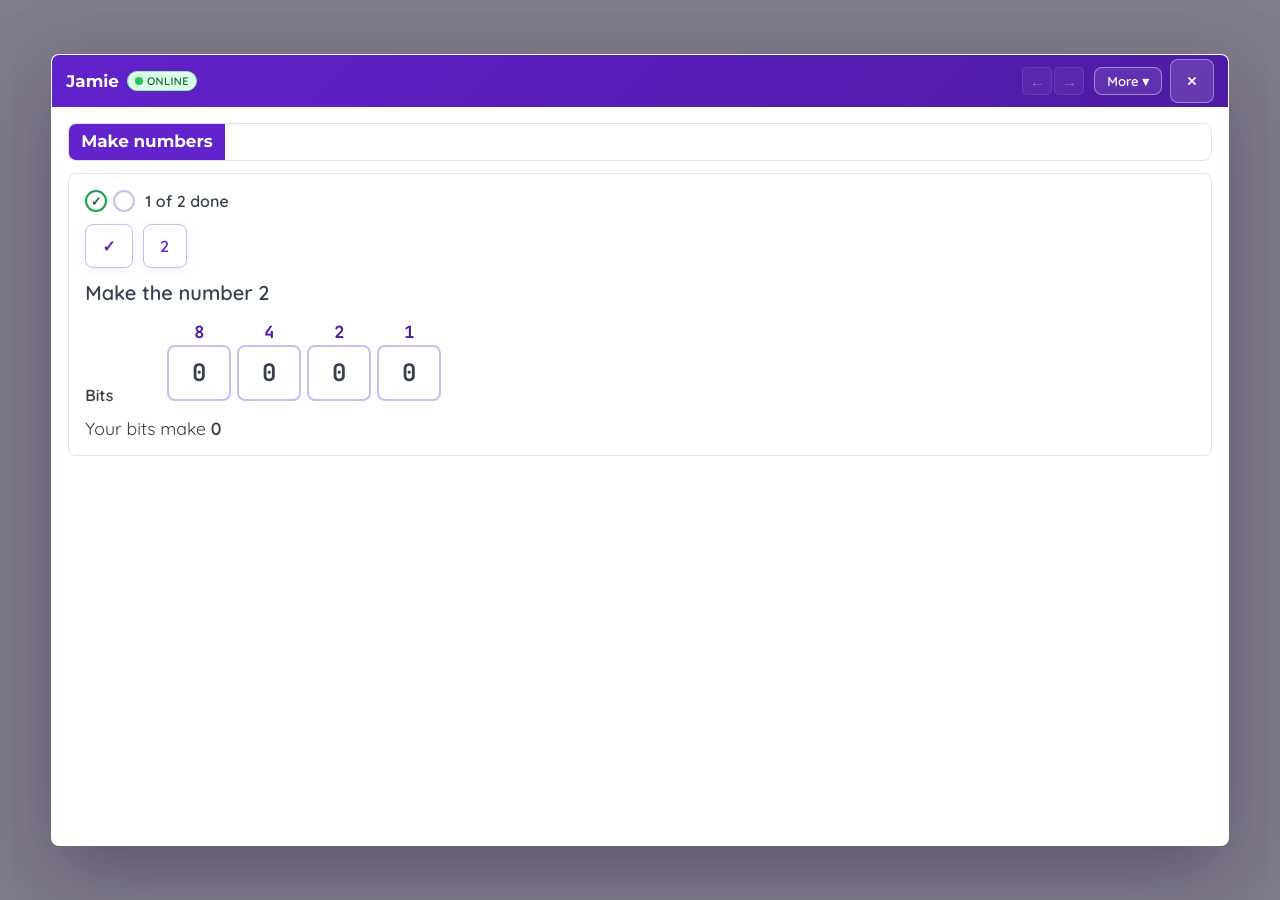
Test case: StudentModal on an activity task › offers Start again / Complete as the reset stages
Click the button "More ▾" at (1128, 81), box [1094,67,1162,95]
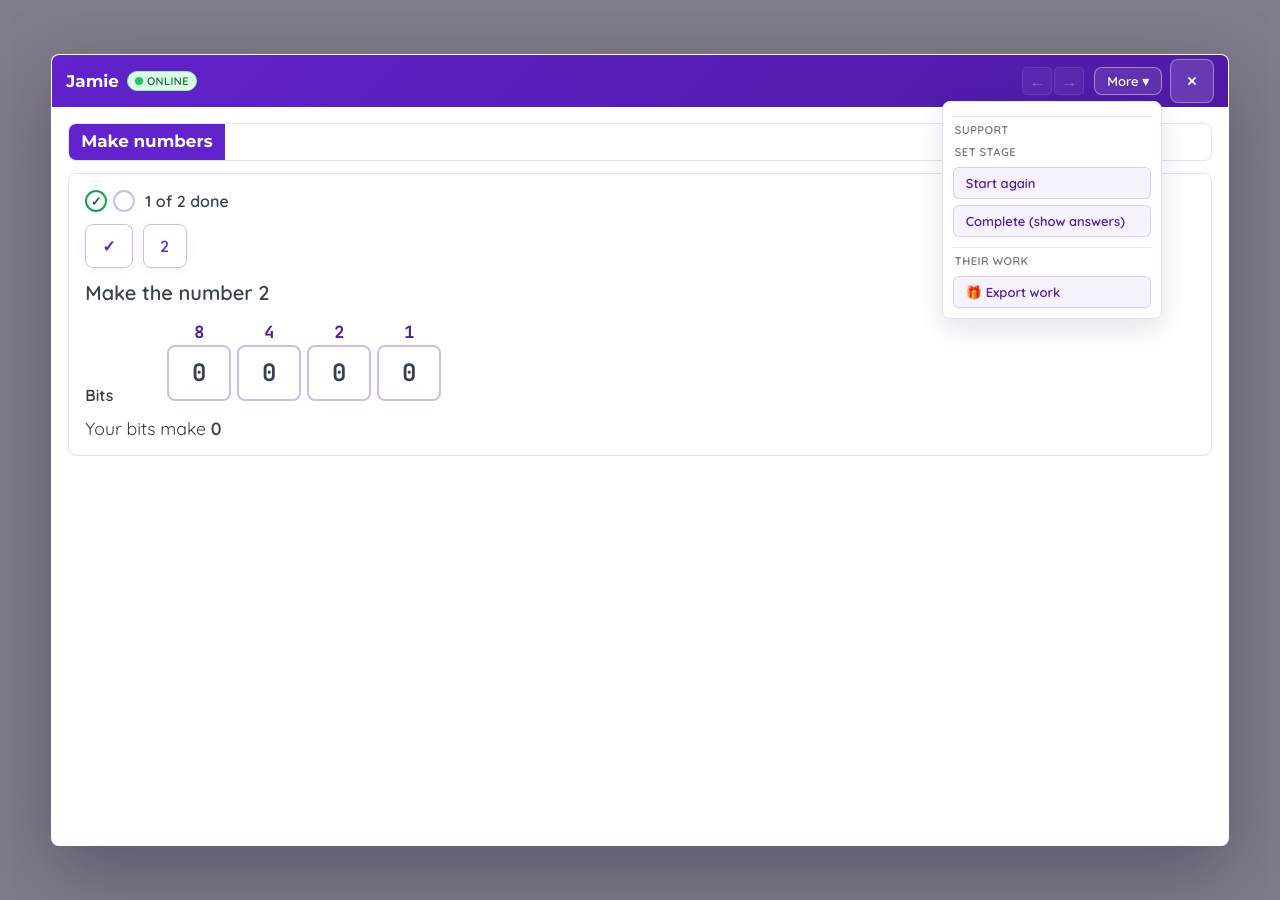
Now the text "Set stage" is shown, box [955,145,1016,159]
